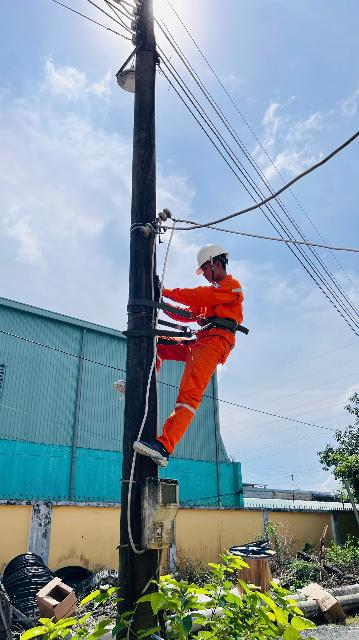gloves: (146, 270, 170, 298)
harness: (183, 307, 249, 344)
helmet: (185, 238, 228, 273)
shoes: (133, 432, 177, 473), (112, 373, 146, 404)
